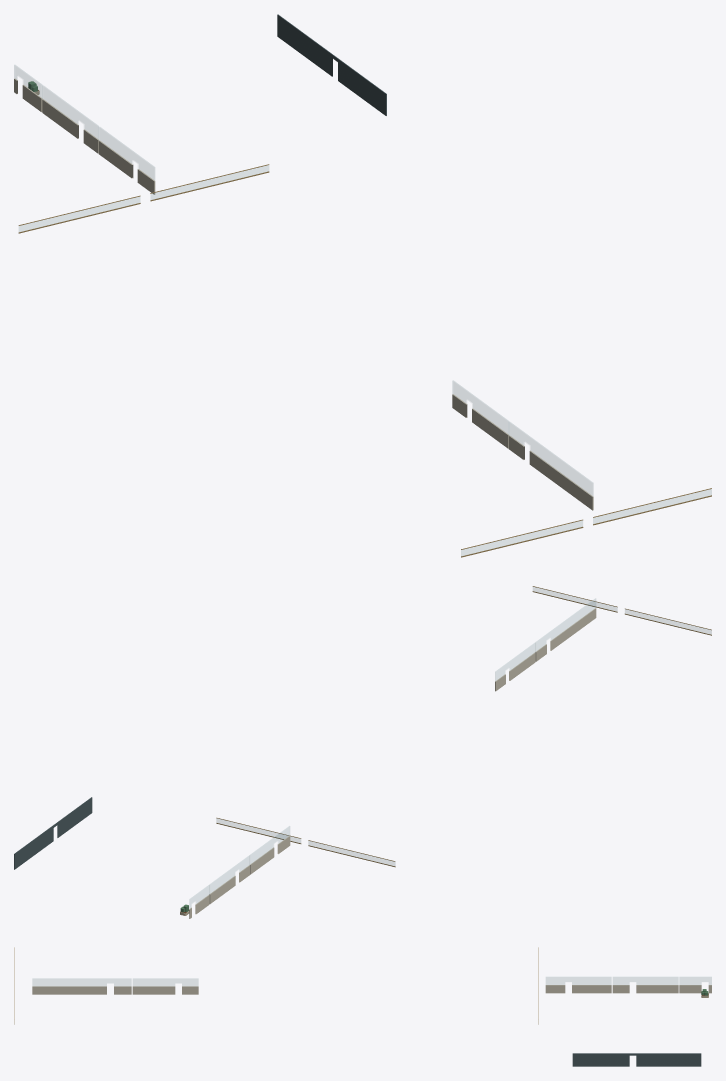
Rendered from D04_STARBOARD_FORWARD_REMAINING_PATCH_r001.glb.
The picture shows the model from 3 angles, top to bottom: view 1: azimuth 30°, elevation 25°; view 2: azimuth 150°, elevation 25°; view 3: azimuth 270°, elevation 25°; orthographic projection. The views are drawn at different scales.
Parts seen in each view (by area): view 1: SFW_Wall0_1, D04SF_OuterGuard_02, D04SFP_OuterGuard_11, D04SFH_D04HC5_east_PrivacyScreen, D04SFH_D04HC5_east_GlassUpper, D04SFH_D04HC_east_PrivacyScreen; view 2: SFW_Wall0_1, D04SF_OuterGuard_02, D04SFP_OuterGuard_11, D04SFH_D04HC5_east_PrivacyScreen, D04SFH_D04HC5_east_GlassUpper; view 3: SFW_Wall0_1, D04SFH_D04HC5_east_PrivacyScreen, D04SFH_D04HC5_east_GlassUpper, D04SFH_D04HC4_east_PrivacyScreen, D04SFH_D04HC2_east_PrivacyScreen, D04SFH_D04HC_east_PrivacyScreen, D04SFH_D04HC2_east_GlassUpper, D04SFH_D04HC4_east_GlassUpper, D04SFH_D04HC_east_GlassUpper, D04SFH_D04HC3_east_GlassUpper, D04SFH_D04HC3_east_PrivacyScreen.
Boxes of the visible parts, bbox=[...] form: SFW_Wall0_1: bbox=[277, 14, 386, 115]; D04SF_OuterGuard_02: bbox=[461, 489, 711, 555]; D04SFP_OuterGuard_11: bbox=[19, 165, 268, 231]; D04SFH_D04HC5_east_PrivacyScreen: bbox=[508, 435, 593, 510]; D04SFH_D04HC5_east_GlassUpper: bbox=[509, 422, 593, 495]; D04SFH_D04HC_east_PrivacyScreen: bbox=[98, 140, 155, 194]; SFW_Wall0_1: bbox=[14, 797, 92, 869]; D04SF_OuterGuard_02: bbox=[533, 587, 711, 634]; D04SFP_OuterGuard_11: bbox=[216, 819, 395, 865]; D04SFH_D04HC5_east_PrivacyScreen: bbox=[535, 608, 596, 661]; D04SFH_D04HC5_east_GlassUpper: bbox=[536, 598, 595, 651]; SFW_Wall0_1: bbox=[572, 1053, 701, 1066]; D04SFH_D04HC5_east_PrivacyScreen: bbox=[32, 986, 131, 994]; D04SFH_D04HC5_east_GlassUpper: bbox=[32, 978, 131, 985]; D04SFH_D04HC4_east_PrivacyScreen: bbox=[132, 986, 198, 994]; D04SFH_D04HC2_east_PrivacyScreen: bbox=[612, 985, 678, 993]; D04SFH_D04HC_east_PrivacyScreen: bbox=[545, 985, 611, 993]; D04SFH_D04HC2_east_GlassUpper: bbox=[613, 977, 678, 984]; D04SFH_D04HC4_east_GlassUpper: bbox=[133, 978, 198, 985]; D04SFH_D04HC_east_GlassUpper: bbox=[546, 977, 611, 984]; D04SFH_D04HC3_east_GlassUpper: bbox=[679, 977, 711, 984]; D04SFH_D04HC3_east_PrivacyScreen: bbox=[679, 985, 711, 993].
Bounding box in the file's own units: 60.06 × 3.96 × 154.
Materials: 12 (7 with a texture image).
